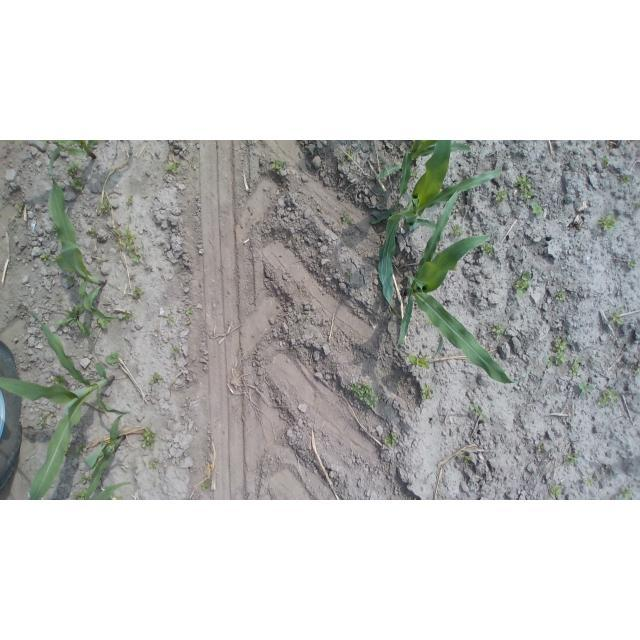Maize: (398, 192, 530, 389), (1, 308, 132, 500), (376, 140, 503, 317), (47, 140, 125, 324), (377, 141, 471, 228), (84, 413, 127, 499), (92, 479, 140, 500), (61, 141, 103, 160)
Weeds: (55, 304, 93, 339), (112, 225, 142, 264), (350, 380, 379, 409), (545, 337, 567, 368), (515, 174, 538, 203), (514, 271, 533, 298), (598, 386, 619, 406), (140, 427, 157, 451), (597, 214, 618, 233), (408, 353, 432, 369), (568, 356, 584, 377), (470, 402, 488, 420), (608, 306, 624, 326), (420, 380, 435, 400), (577, 380, 595, 396), (340, 148, 356, 165), (382, 432, 397, 449), (164, 159, 182, 173), (448, 224, 465, 238), (270, 158, 289, 170), (148, 371, 164, 385), (531, 200, 544, 217), (105, 350, 120, 364), (480, 243, 494, 258), (564, 453, 580, 466), (72, 489, 90, 500), (619, 486, 634, 499), (71, 179, 86, 192), (68, 161, 81, 175), (492, 323, 505, 337), (96, 316, 110, 329), (41, 251, 52, 267), (550, 486, 563, 499), (65, 275, 78, 288), (340, 211, 352, 225), (495, 190, 507, 203), (458, 453, 471, 465), (38, 413, 48, 428), (555, 290, 567, 302), (53, 375, 66, 386), (621, 175, 633, 186), (101, 202, 112, 213), (81, 474, 92, 485), (583, 476, 595, 486), (133, 286, 143, 298), (76, 443, 85, 456), (166, 315, 176, 326), (602, 157, 612, 168), (16, 204, 24, 217), (202, 479, 211, 490), (123, 310, 132, 321), (149, 459, 159, 468), (409, 170, 417, 181), (64, 448, 73, 457), (628, 259, 637, 268), (88, 226, 97, 235), (171, 347, 180, 356), (185, 306, 194, 315), (125, 195, 132, 205), (345, 269, 353, 277), (537, 444, 544, 452), (317, 204, 324, 211), (184, 318, 192, 324), (99, 256, 105, 262)
